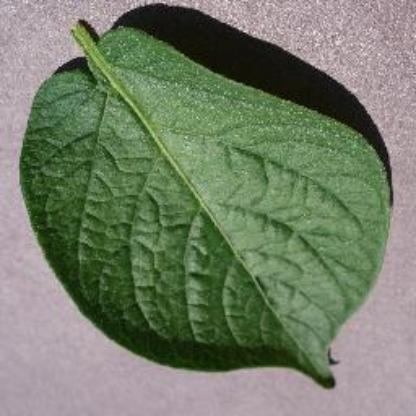Healthy-plant: (18, 15, 392, 391)
